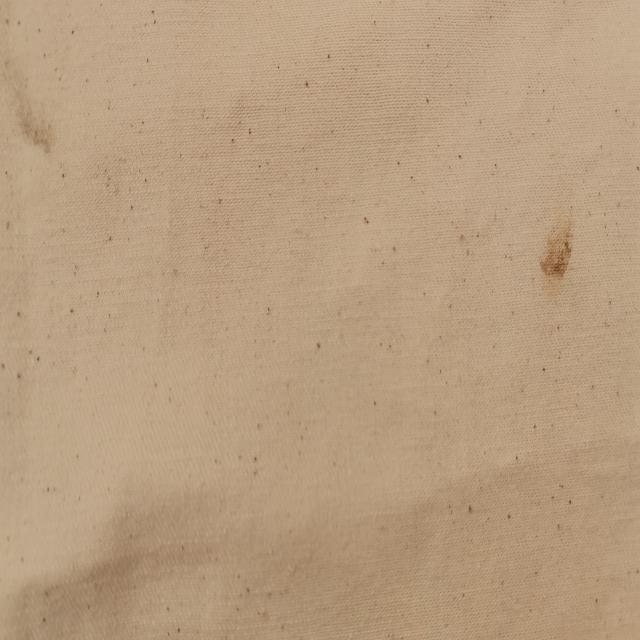taaaches: (4, 74, 57, 158)
